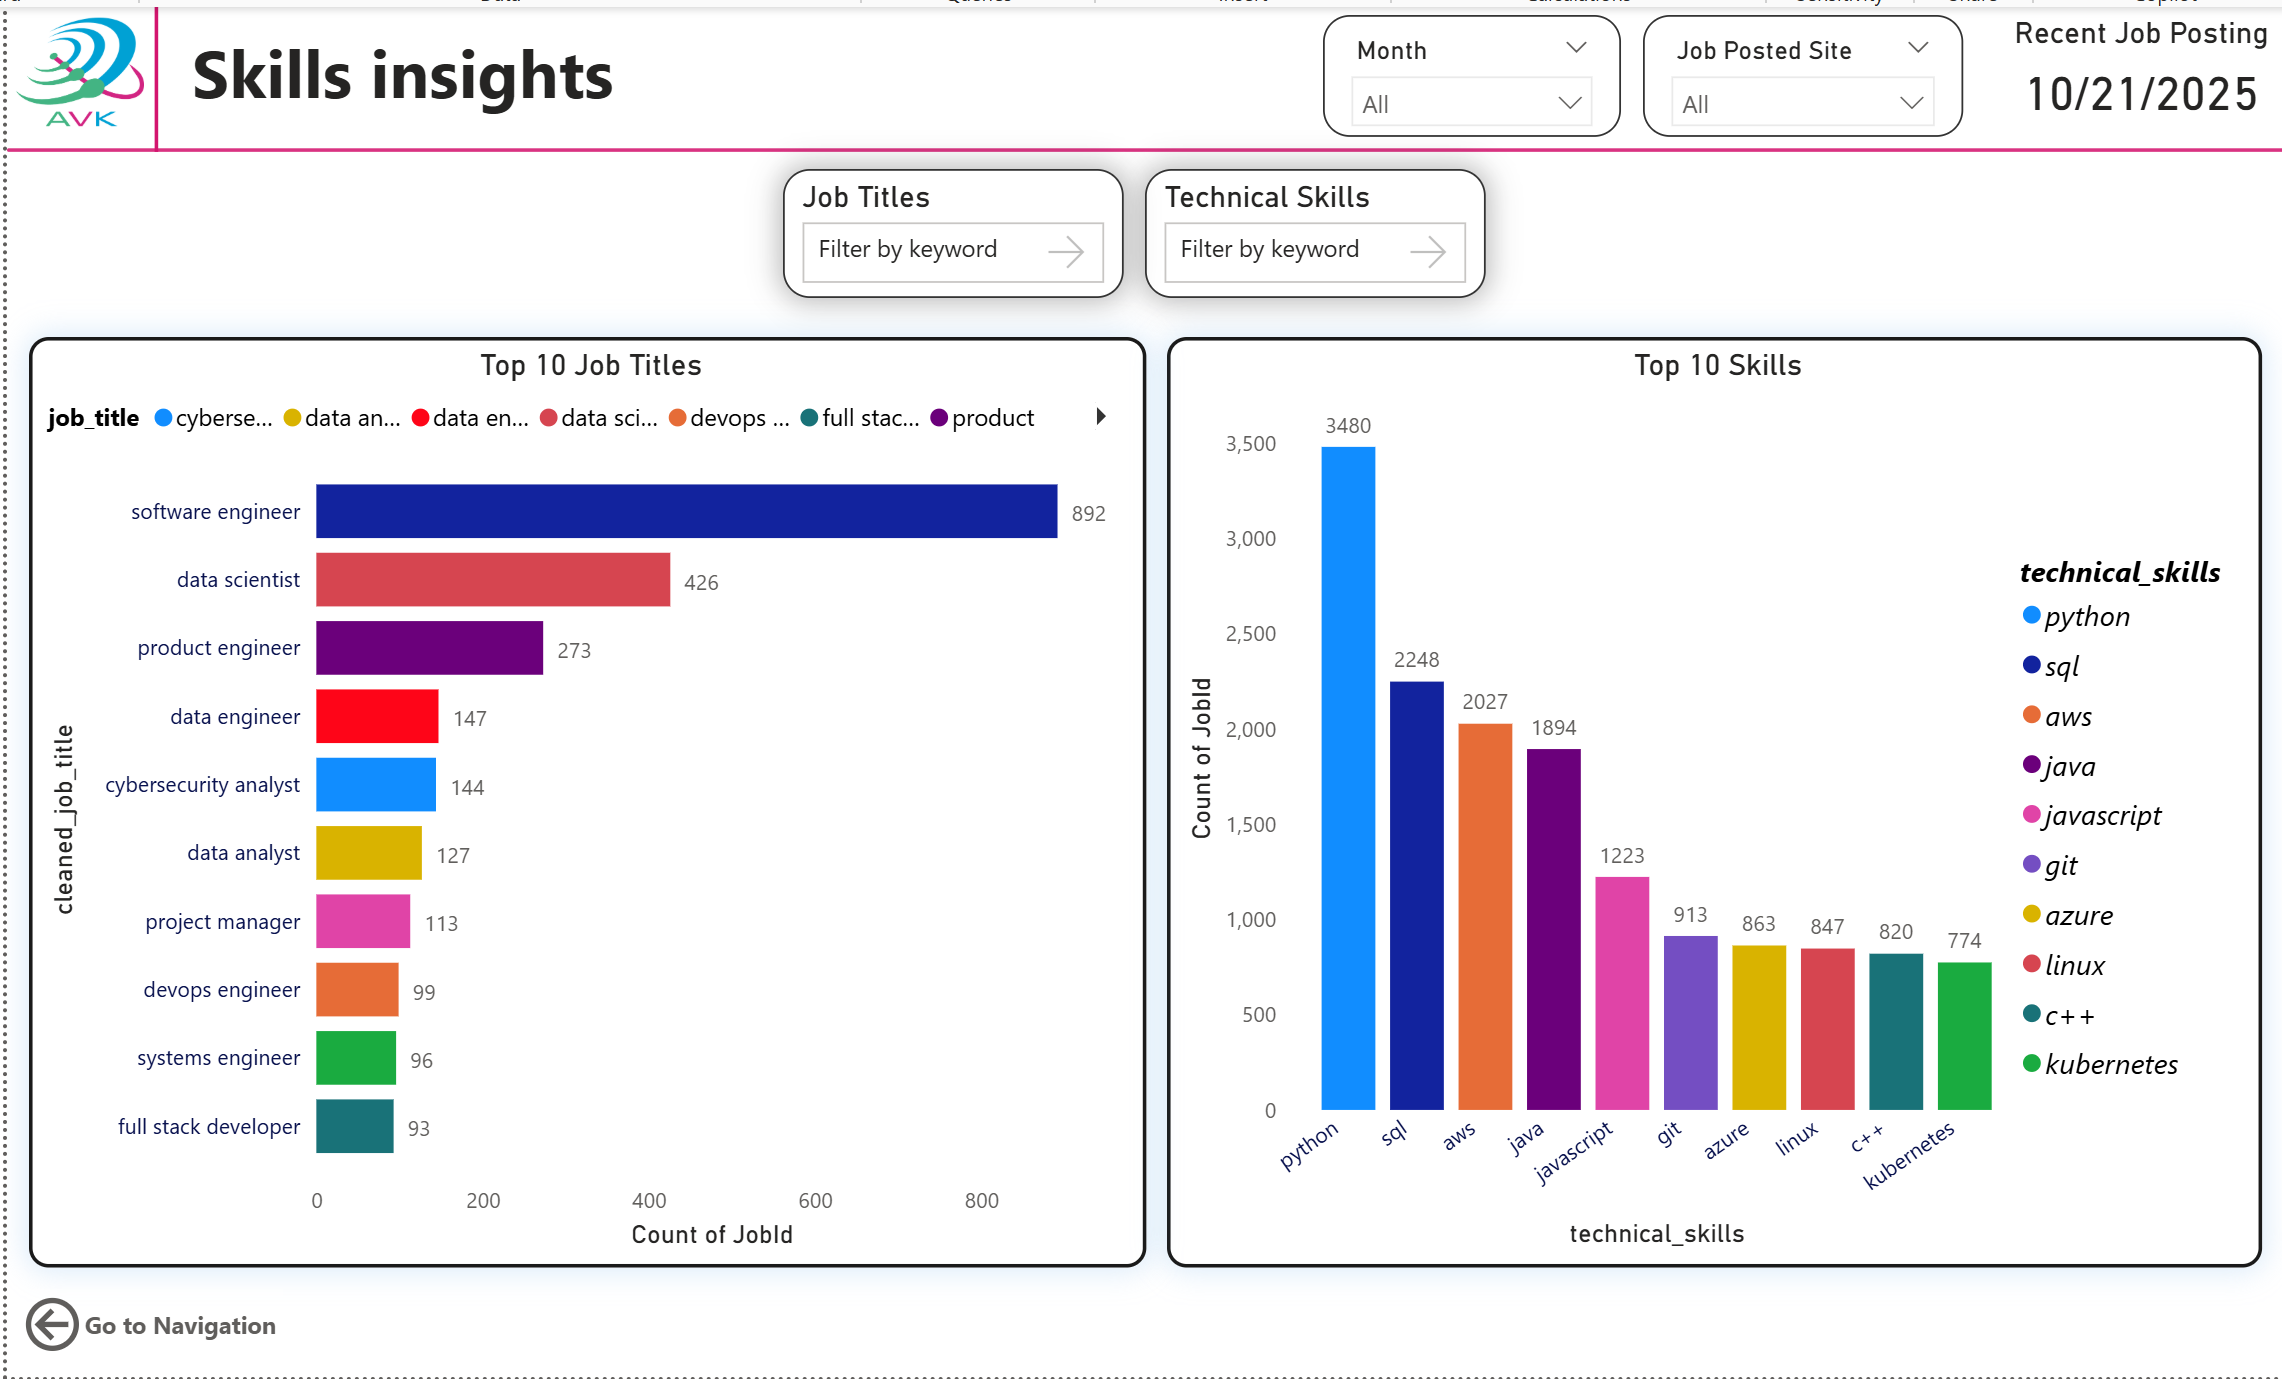

This screenshot's page, from the dashboard's own definition file:
{"tool":"powerbi","page":{"name":"Skills Insights","canvas":[1280,770],"ordinal":2},"visuals":[{"type":"shape","box":[0,70,1280,21.4],"z":0},{"type":"image","box":[0,0,81.9,73.4],"z":1000},{"type":"textbox","box":[99.4,5.2,260.2,61.5],"z":2000},{"type":"shape","box":[70,0,28.6,81.4],"z":3000},{"type":"card","title":"Recent Job Posting","fields":{"Values":["job_data.Recent job date"]},"box":[1120.1,4.9,160.2,66],"z":4000},{"type":"slicer","fields":{"Values":["job_data.job_posted_site"]},"box":[919.6,4.9,179.8,68.5],"z":5000},{"type":"slicer","fields":{"Values":["job_data.job_posted_date.Variation.Date Hierarchy.Month","job_data.job_posted_date.Variation.Date Hierarchy.Day"]},"box":[740.1,4.7,167.6,68.7],"z":6000},{"type":"textSlicer","title":"Technical Skills","fields":{"Values":["jobskills.technical_skills"]},"box":[640.2,91,191.3,72.5],"z":7000},{"type":"columnChart","title":"Top 10 Skills","fields":{"Category":["jobskills.technical_skills"],"Series":["jobskills.technical_skills"],"Y":["CountNonNull(jobskills.JobId)"]},"box":[652.5,185.1,615.5,522.9],"z":8000},{"type":"textSlicer","title":"Job Titles","fields":{"Values":["jobskills.job_title"]},"box":[436.5,91,191.3,72.5],"z":9000},{"type":"barChart","title":"Top 10 Job Titles","fields":{"Category":["job_data.cleaned_job_title"],"Series":["job_data.job_title"],"Y":["CountNonNull(job_data.JobId)"]},"box":[12.3,185.1,627.8,522.9],"z":10000},{"type":"actionButton","box":[5.5,721,149.7,39.8],"z":10001}]}

Visuals, with their boxes in screenshot pixels (x1, y1, x2, y2), scaled from the page's 1280x770 canvas onto the 2282x1379 screenshot:
shape: x1=0, y1=125, x2=2281, y2=164
image: x1=0, y1=0, x2=146, y2=131
textbox: x1=177, y1=9, x2=641, y2=119
shape: x1=125, y1=0, x2=176, y2=146
"Recent Job Posting" card: x1=1997, y1=9, x2=2281, y2=127
slicer - job_data.job_posted_site: x1=1639, y1=9, x2=1960, y2=131
slicer - job_data.job_posted_date.Variation.Date Hierarchy.Month x job_data.job_posted_date.Variation.Date Hierarchy.Day: x1=1319, y1=8, x2=1618, y2=131
"Technical Skills" textSlicer: x1=1141, y1=163, x2=1482, y2=293
"Top 10 Skills" columnChart: x1=1163, y1=331, x2=2261, y2=1268
"Job Titles" textSlicer: x1=778, y1=163, x2=1119, y2=293
"Top 10 Job Titles" barChart: x1=22, y1=331, x2=1141, y2=1268
actionButton: x1=10, y1=1291, x2=277, y2=1363
